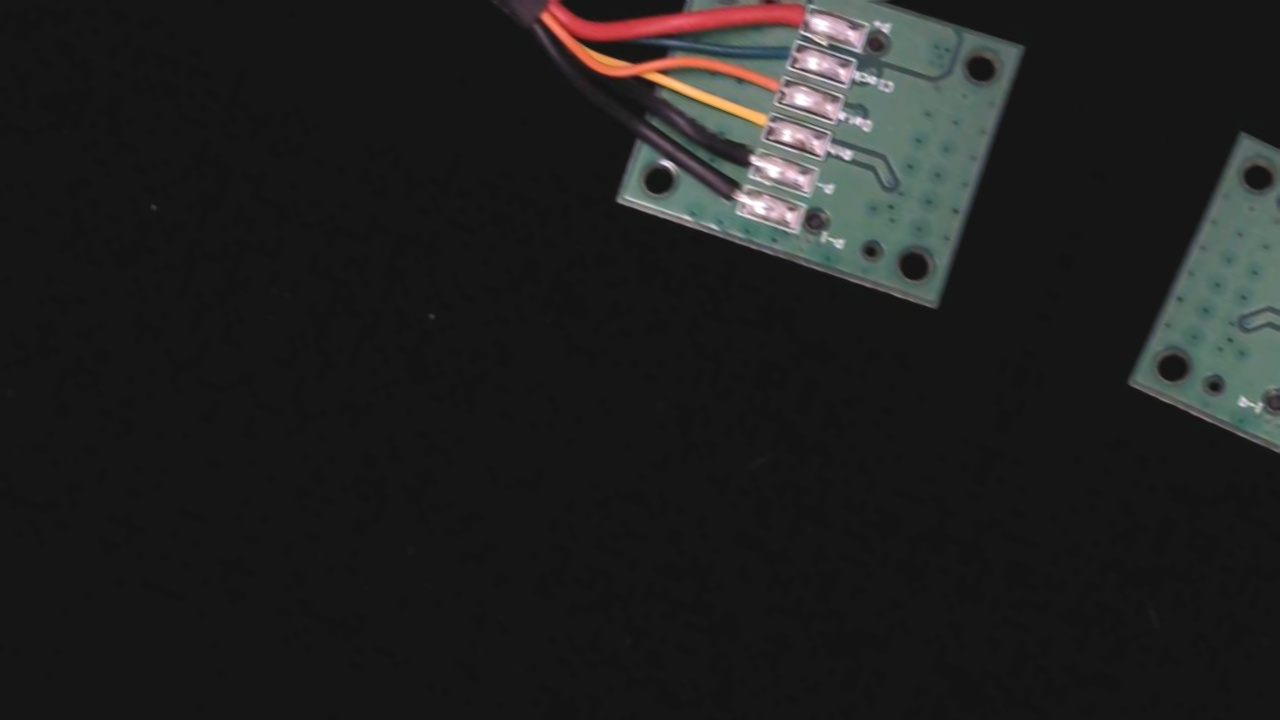Black: (703, 127, 783, 186)
Black1: (694, 166, 768, 221)
Green: (741, 19, 819, 76)
Orange: (729, 56, 808, 112)
Red: (753, 0, 831, 40)
Yellow: (714, 87, 796, 146)
